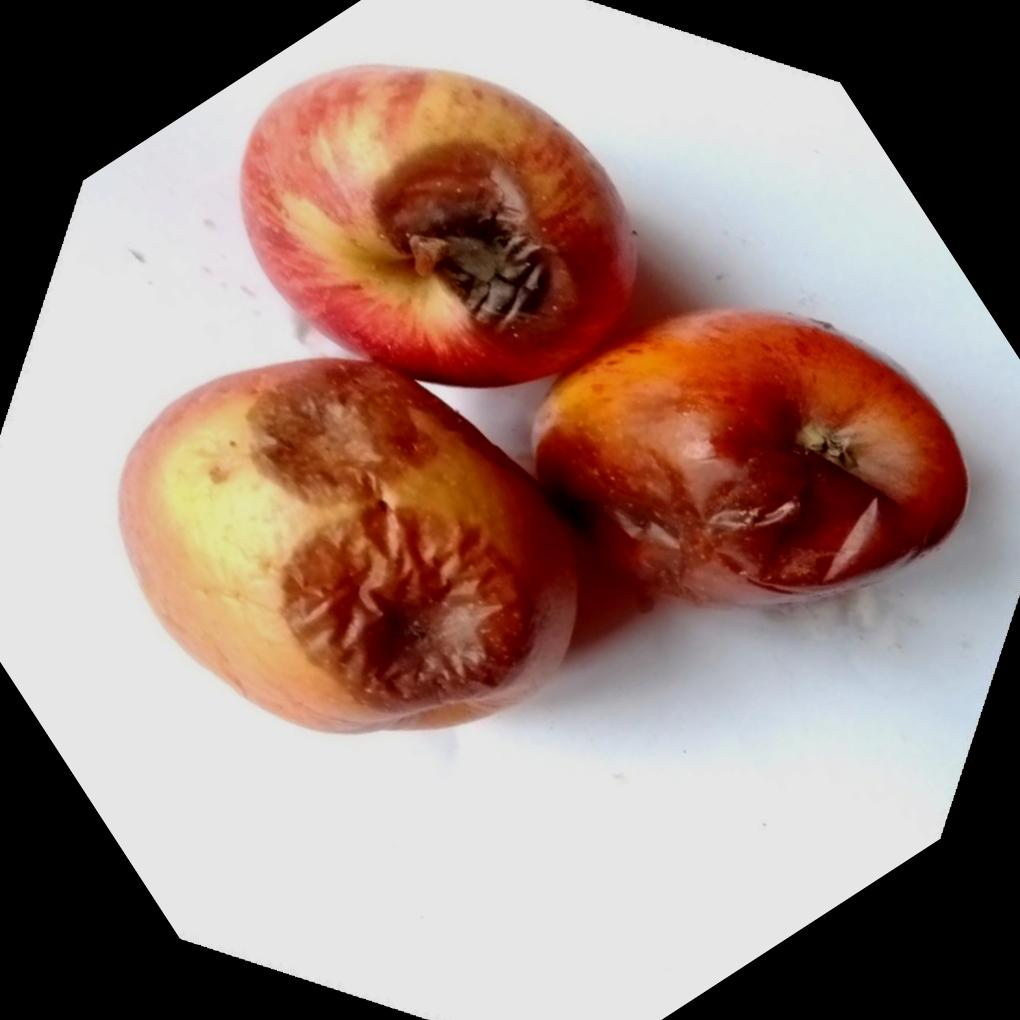FreshOrange: (120, 62, 966, 733)
